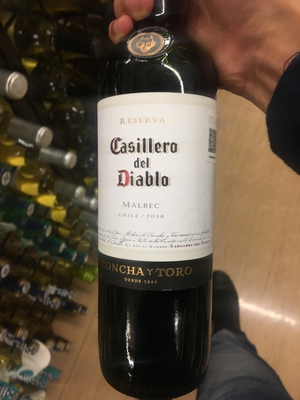casillero del diablo malbec: (77, 20, 241, 400)
